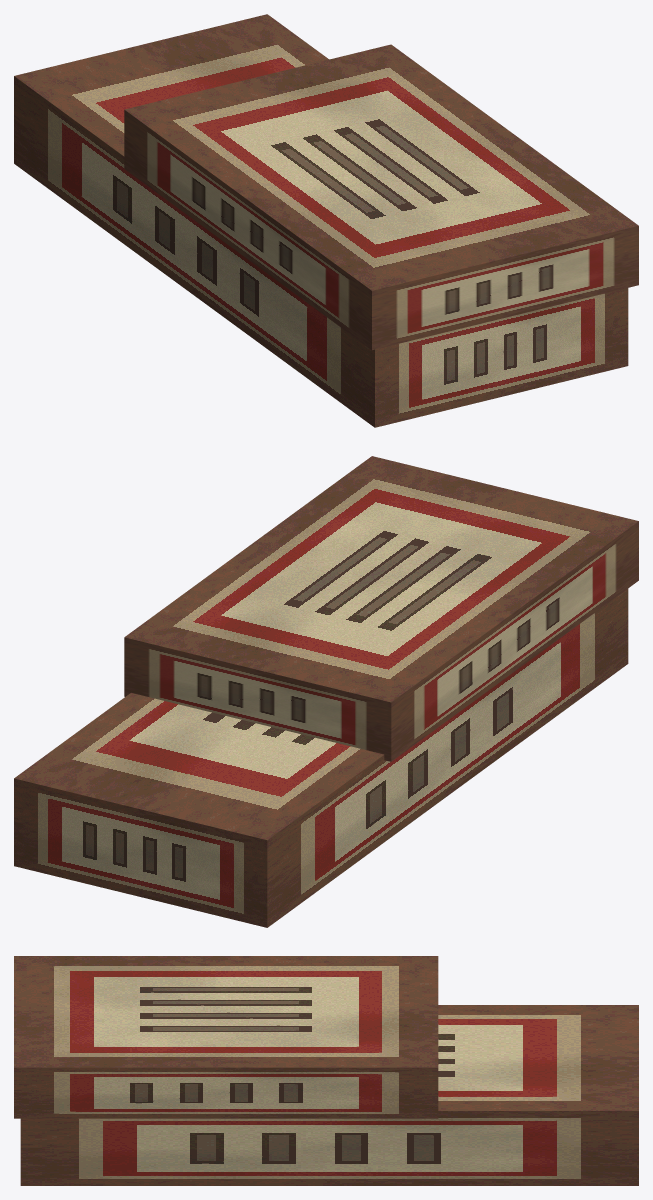
Rendered from incense_box.glb.
3 renders of one model, top to bottom at view 1: azimuth 30°, elevation 25°; view 2: azimuth 150°, elevation 25°; view 3: azimuth 270°, elevation 25°, orthographic. The views are drawn at different scales.
Parts seen in each view (by area): view 1: incense_box; view 2: incense_box; view 3: incense_box.
Part boxes in pixels (x1=…): incense_box: x1=14, y1=14, x2=638, y2=427; incense_box: x1=14, y1=456, x2=638, y2=927; incense_box: x1=14, y1=956, x2=638, y2=1185.
Size of the model in its own units: 0.079 by 0.04 by 0.187.
Materials: 2 (2 with a texture image).
